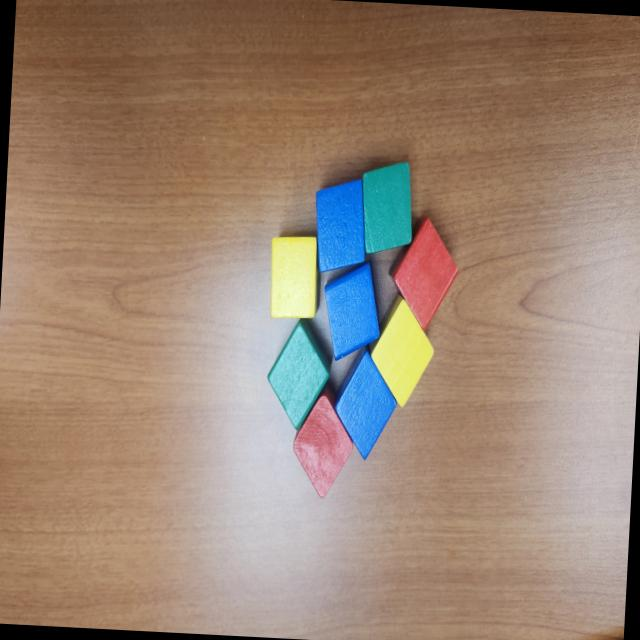blue: (327, 346, 400, 462), (320, 256, 384, 364), (310, 175, 370, 278)
green: (262, 318, 333, 436), (357, 158, 418, 258)
red: (388, 213, 461, 336), (290, 384, 356, 500)
yellow: (367, 294, 438, 410), (268, 233, 324, 322)
